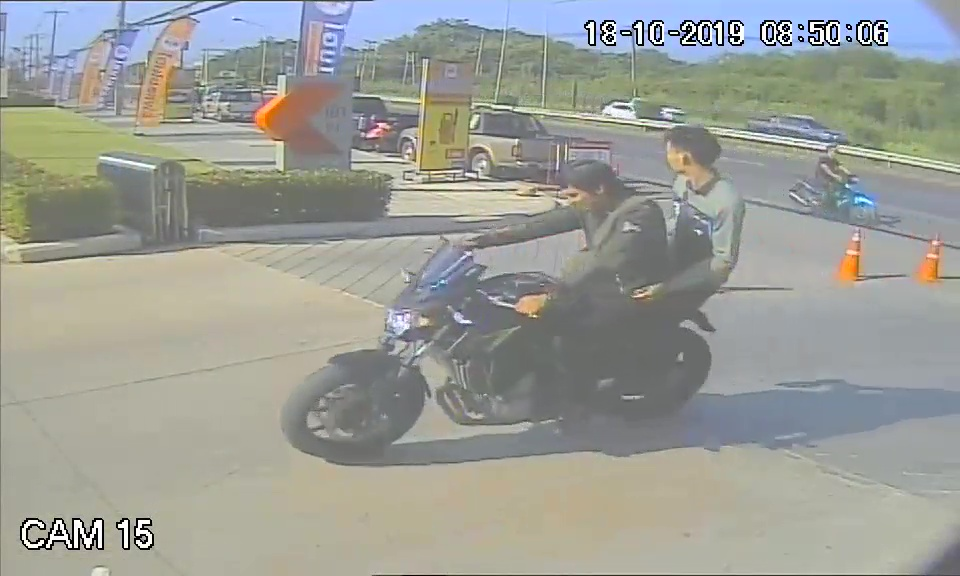motorcycle: (280, 242, 723, 459)
